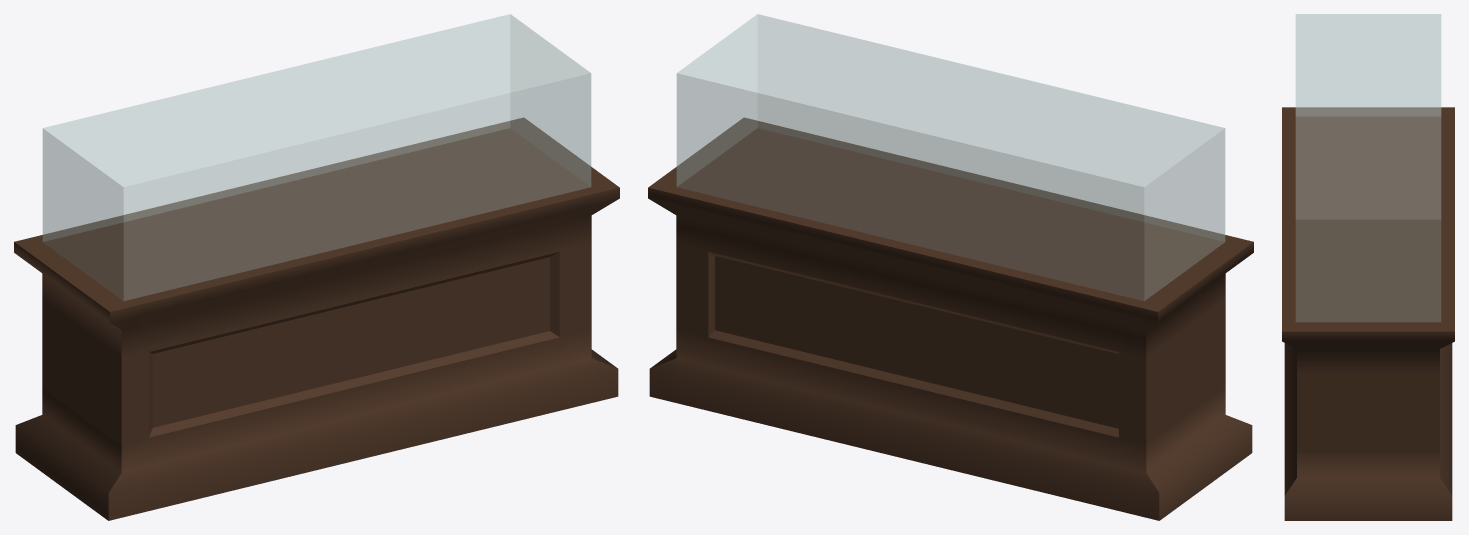
The model's file is DisplayCaseStraightLambert.fbx.
3 renders of one model, left to right at view 1: azimuth 30°, elevation 25°; view 2: azimuth 150°, elevation 25°; view 3: azimuth 270°, elevation 25°, orthographic. The views are drawn at different scales.
Parts seen in each view (by area): view 1: pCube1, pCube2; view 2: pCube1, pCube2; view 3: pCube1, pCube2.
Part boxes in pixels (x1=…): pCube1: x1=14, y1=117, x2=619, y2=520; pCube2: x1=42, y1=14, x2=591, y2=300; pCube1: x1=648, y1=117, x2=1253, y2=520; pCube2: x1=676, y1=14, x2=1225, y2=300; pCube1: x1=1282, y1=107, x2=1454, y2=520; pCube2: x1=1295, y1=14, x2=1441, y2=321.
Bounding box in the file's own units: 10.19 × 6.19 × 3.32.
